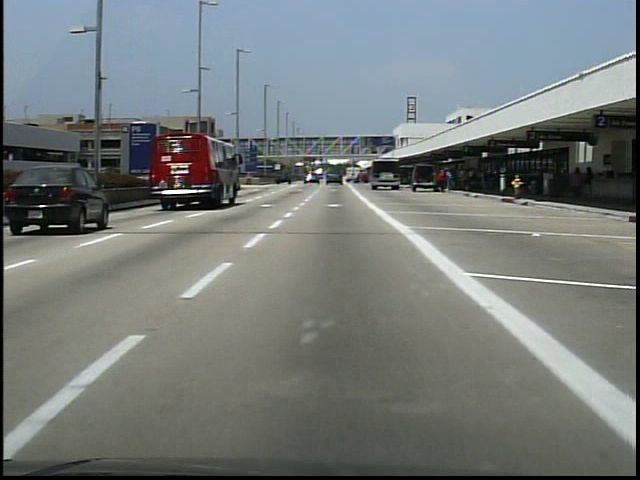person: (437, 171, 448, 198)
